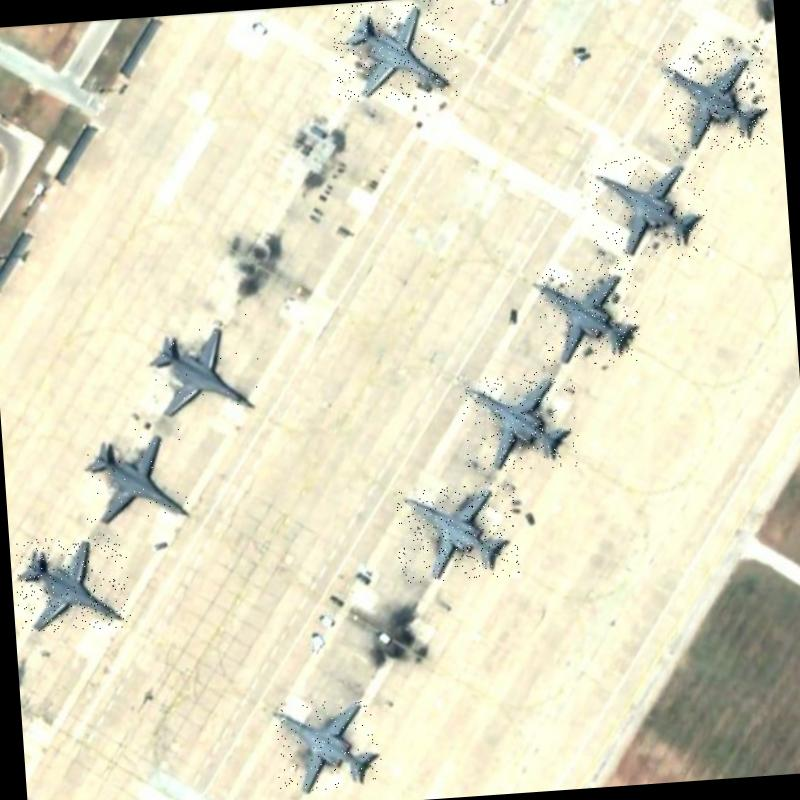A10: (588, 152, 710, 264), (330, 0, 459, 103), (394, 480, 520, 584), (658, 37, 769, 154), (458, 369, 580, 474), (146, 313, 262, 418), (13, 532, 131, 634), (536, 261, 644, 367), (78, 425, 192, 524), (272, 696, 383, 796)
